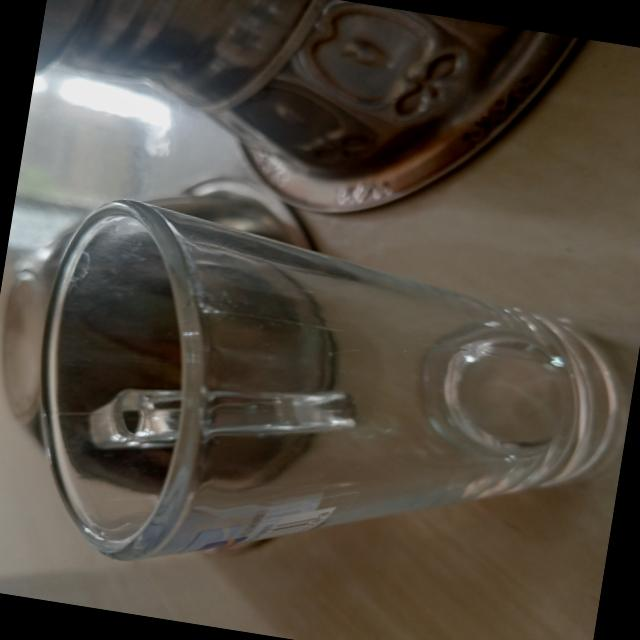glass-VX4N: (4, 187, 640, 637)
